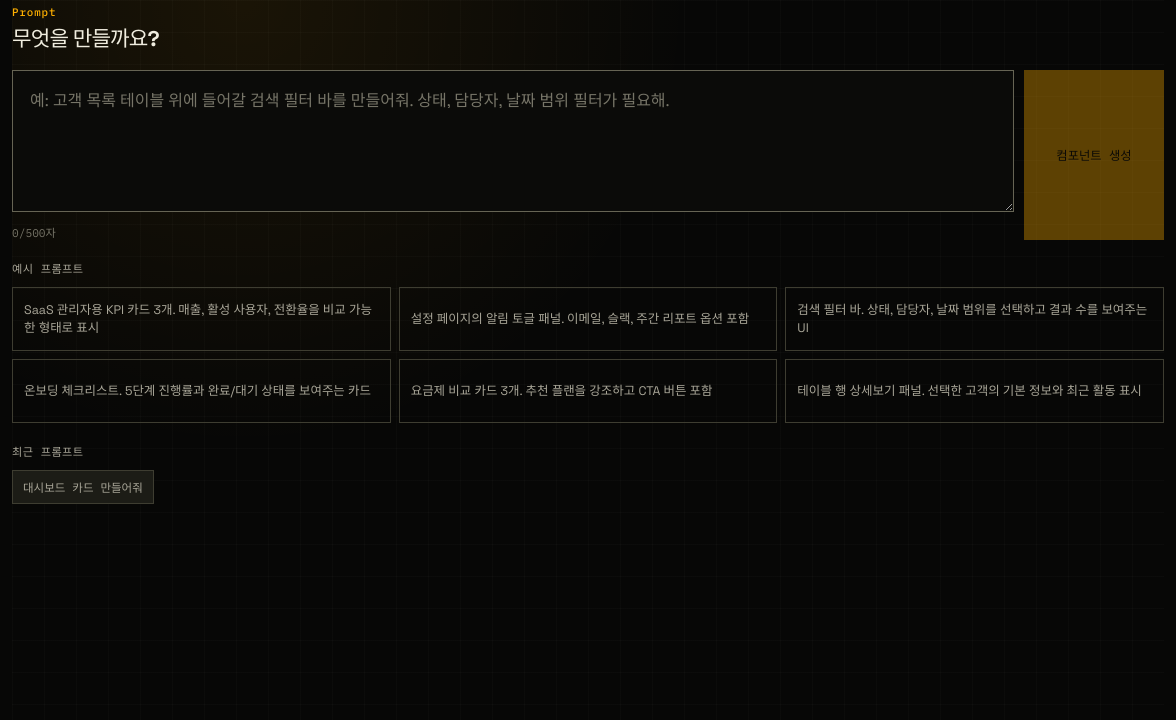
Test: PromptInput › 프롬프트 히스토리를 다시 입력에 적용할 수 있다
Click the button "대시보드 카드 만들어줘": click(83, 487) left=12, top=470, right=154, bottom=504
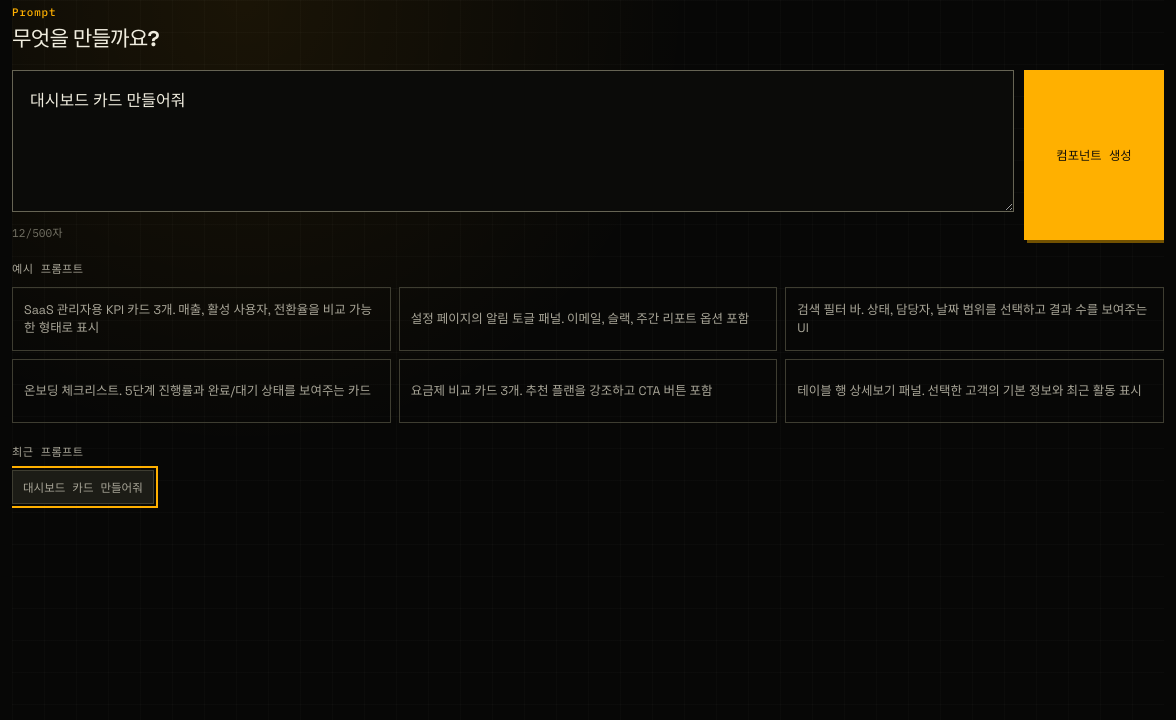
Expected: the text box holds "대시보드 카드 만들어줘", left=12, top=70, right=1014, bottom=212
